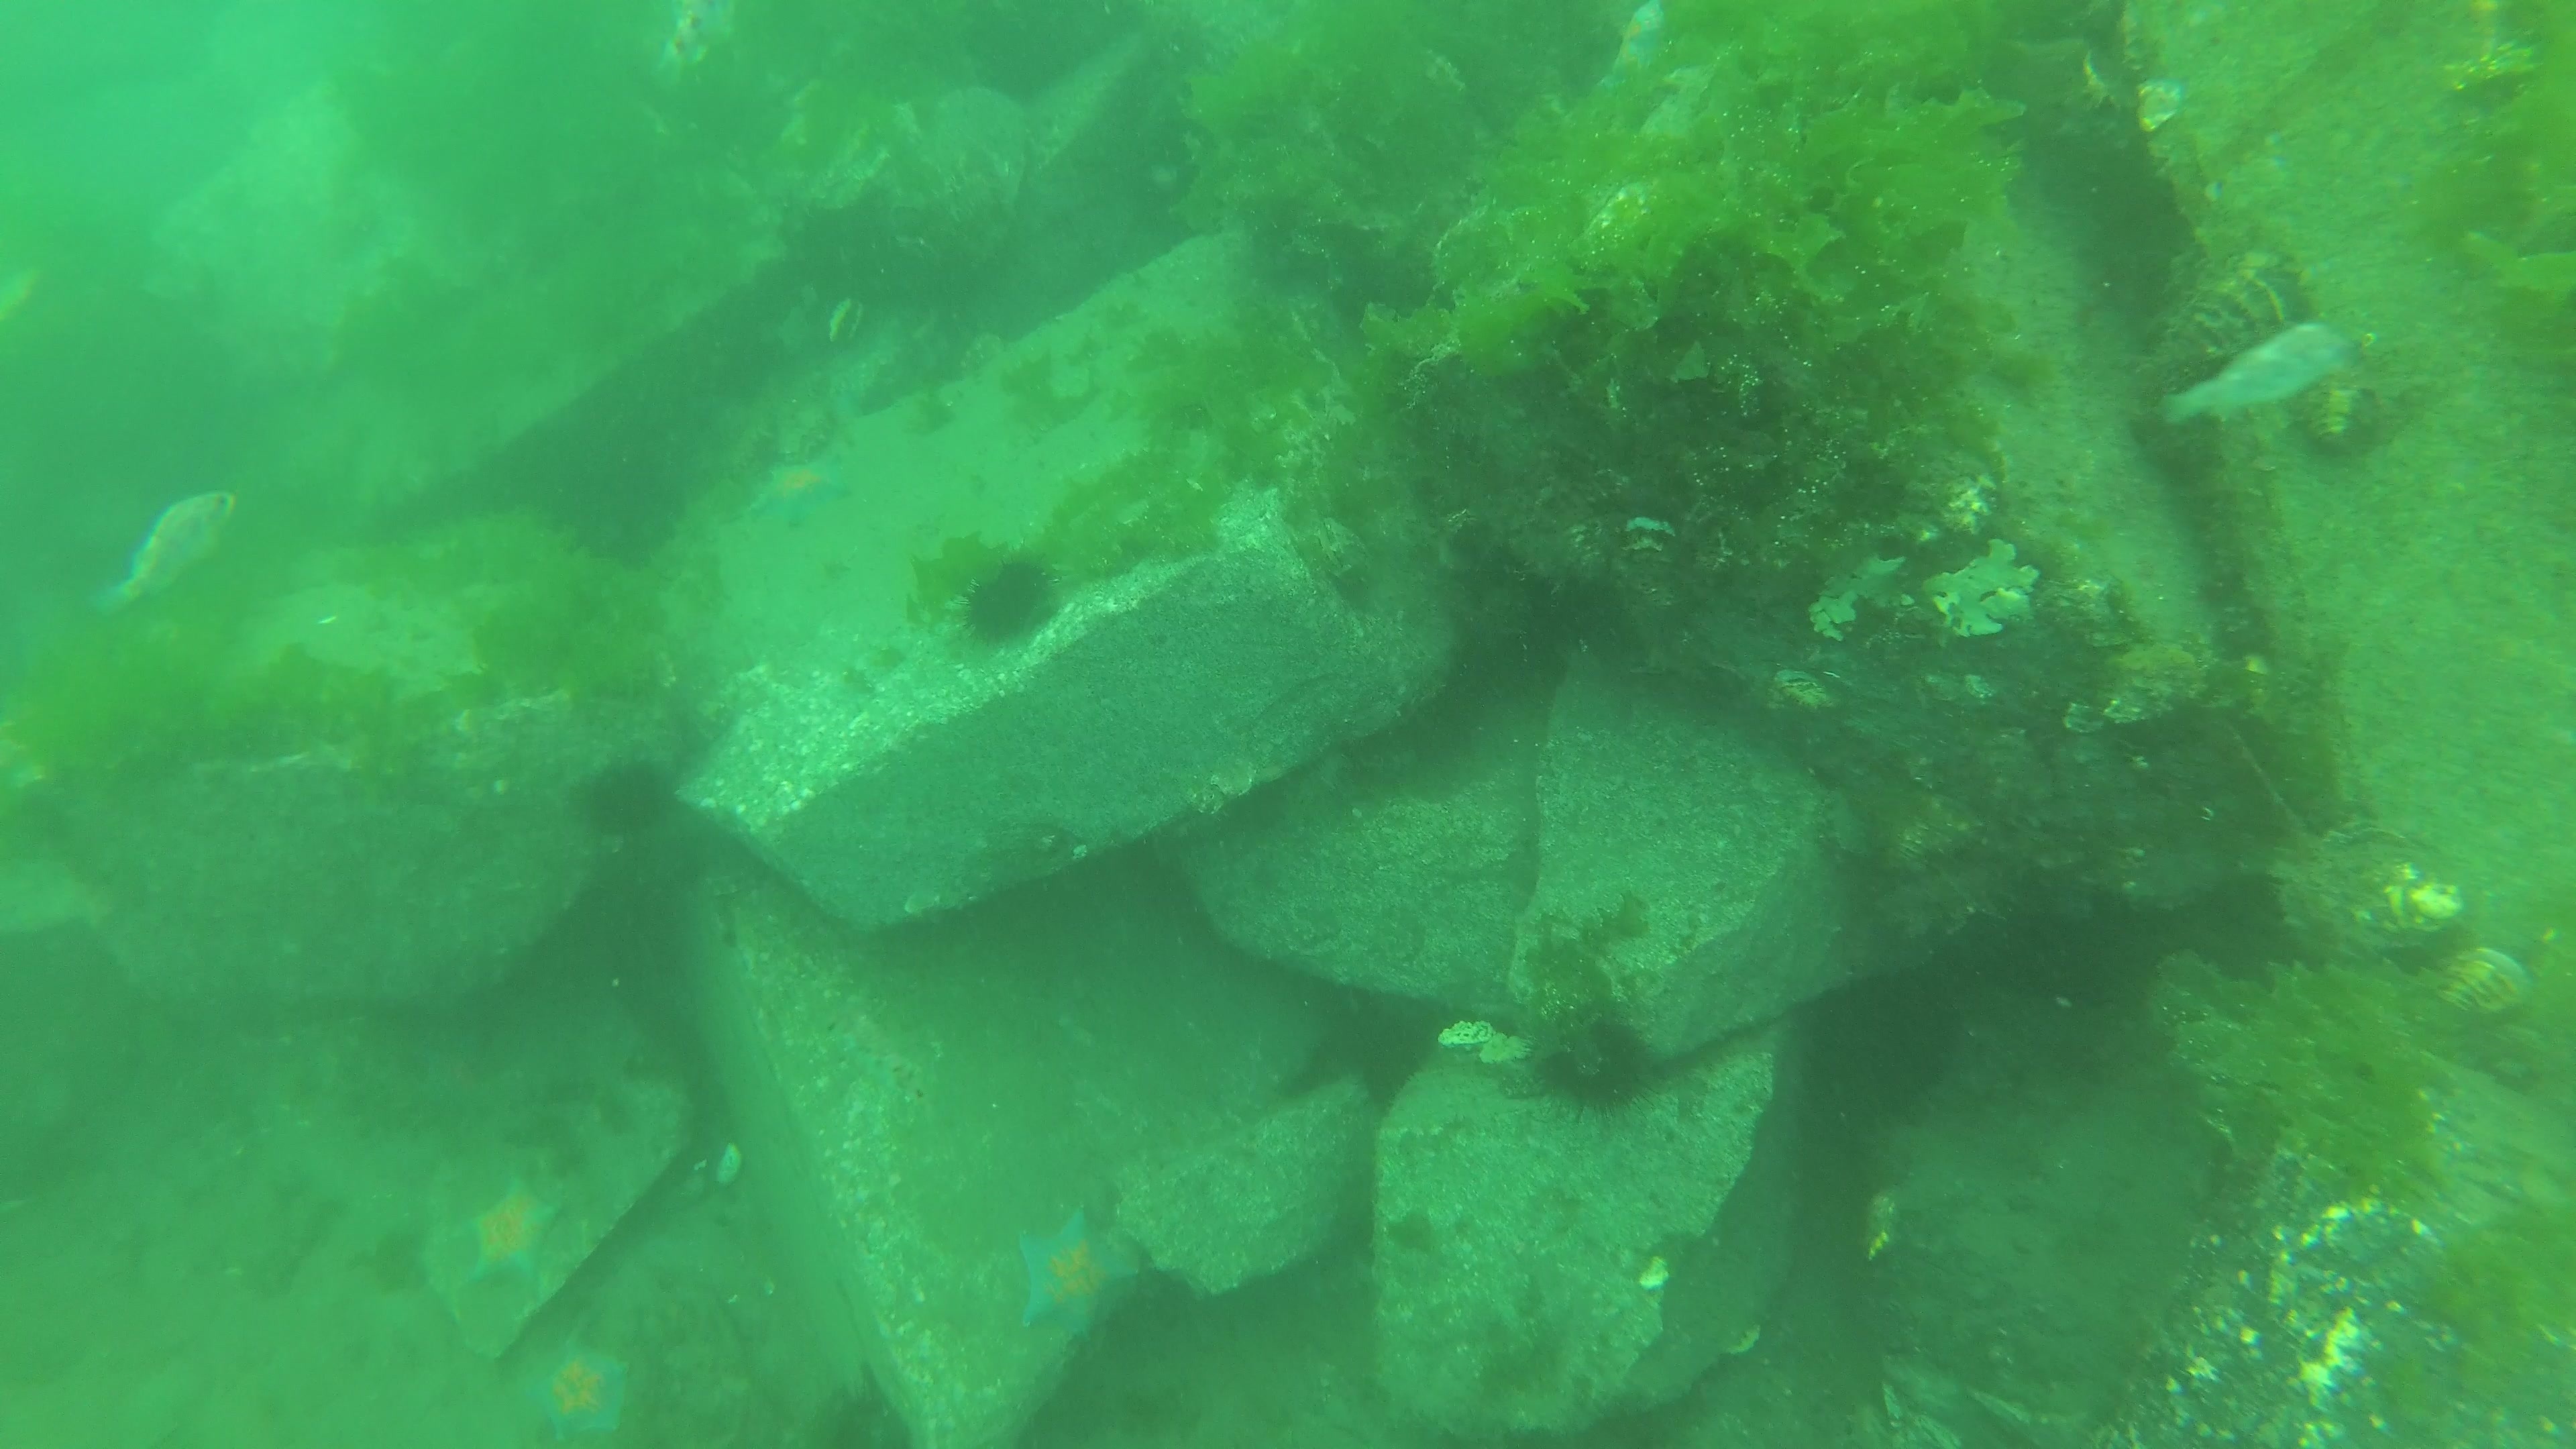echinus: (1309, 1007, 1426, 1111), (1539, 1014, 1658, 1116), (579, 754, 683, 844), (957, 554, 1054, 648), (821, 1382, 909, 1449)
starfish: (1014, 1203, 1141, 1343), (531, 1332, 633, 1447), (471, 1173, 566, 1284), (1589, 4, 1674, 104), (745, 460, 847, 531)
